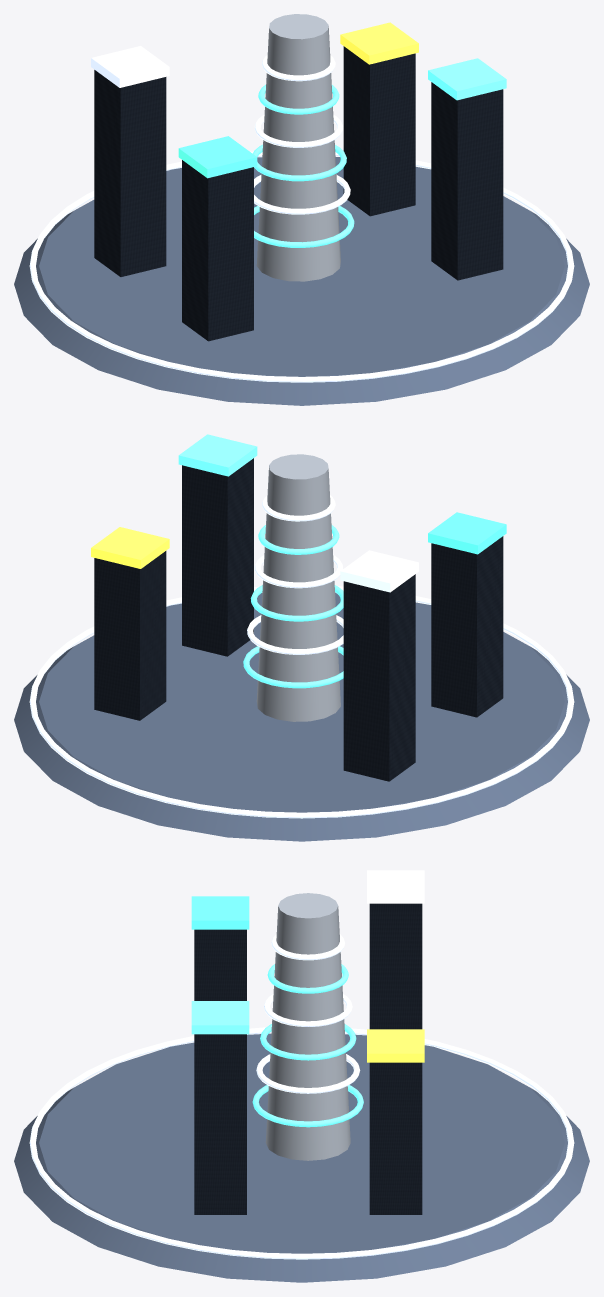
File: skills-hub.glb
The picture shows the model from 3 angles, top to bottom: view 1: azimuth 30°, elevation 25°; view 2: azimuth 150°, elevation 25°; view 3: azimuth 270°, elevation 25°; orthographic projection.
Visible parts, largest first — view 1: sk_plinth, sk_totem_core, sk_pillar_2, sk_pillar_1, sk_pillar_0, sk_pillar_3, sk_ring, sk_cap_0, sk_cap_3, sk_cap_1, sk_cap_2, sk_cert_ring_0 (+5 smaller); view 2: sk_plinth, sk_totem_core, sk_pillar_2, sk_pillar_1, sk_pillar_0, sk_pillar_3, sk_ring, sk_cap_1, sk_cap_2, sk_cap_0, sk_cap_3, sk_cert_ring_0 (+5 smaller); view 3: sk_plinth, sk_totem_core, sk_pillar_1, sk_pillar_3, sk_ring, sk_pillar_2, sk_pillar_0, sk_cap_0, sk_cap_1, sk_cap_2, sk_cap_3, sk_cert_ring_0 (+5 smaller).
Part boxes in pixels (x1,y1,x2,y2): sk_plinth: [14, 157, 589, 405]; sk_totem_core: [256, 14, 340, 281]; sk_pillar_2: [94, 70, 166, 276]; sk_pillar_1: [431, 82, 503, 280]; sk_pillar_0: [182, 160, 253, 341]; sk_pillar_3: [343, 46, 415, 216]; sk_ring: [29, 151, 574, 382]; sk_cap_0: [178, 136, 257, 178]; sk_cap_3: [340, 22, 418, 64]; sk_cap_1: [428, 58, 506, 100]; sk_cap_2: [91, 46, 169, 87]; sk_cert_ring_0: [254, 206, 354, 247]; sk_plinth: [14, 592, 589, 841]; sk_totem_core: [256, 454, 340, 721]; sk_pillar_2: [343, 574, 415, 781]; sk_pillar_1: [182, 458, 253, 656]; sk_pillar_0: [431, 536, 503, 717]; sk_pillar_3: [94, 551, 166, 720]; sk_ring: [29, 586, 574, 818]; sk_cap_1: [178, 434, 257, 476]; sk_cap_2: [340, 550, 418, 592]; sk_cap_0: [428, 512, 506, 554]; sk_cap_3: [91, 527, 169, 568]; sk_cert_ring_0: [243, 646, 343, 688]; sk_plinth: [14, 1033, 589, 1282]; sk_totem_core: [265, 893, 350, 1160]; sk_pillar_1: [194, 1034, 246, 1214]; sk_pillar_3: [369, 1062, 422, 1214]; sk_ring: [29, 1027, 574, 1259]; sk_pillar_2: [369, 903, 422, 1029]; sk_pillar_0: [194, 929, 246, 1000]; sk_cap_0: [191, 896, 249, 929]; sk_cap_1: [191, 1001, 249, 1034]; sk_cap_2: [367, 870, 424, 903]; sk_cap_3: [367, 1029, 424, 1062]; sk_cert_ring_0: [252, 1085, 363, 1127].
Size of the model in its own units: 4.6 by 2.25 by 4.6.
7 materials, 1 textured.
